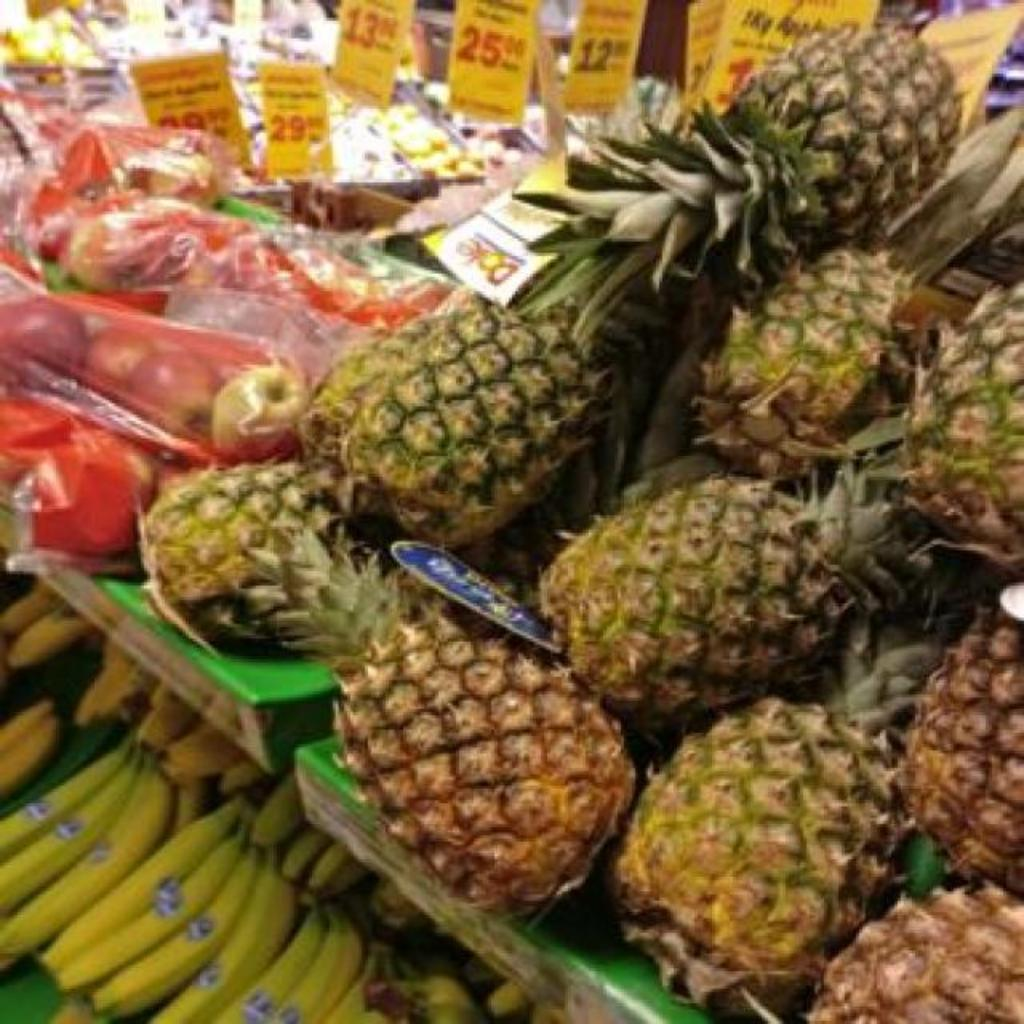pineapple: (522, 28, 960, 447), (182, 532, 634, 911), (612, 616, 940, 1023), (542, 476, 910, 729), (304, 292, 598, 547), (704, 252, 912, 477), (142, 462, 330, 649), (900, 282, 1024, 565), (902, 612, 1024, 895), (808, 884, 1024, 1023)
